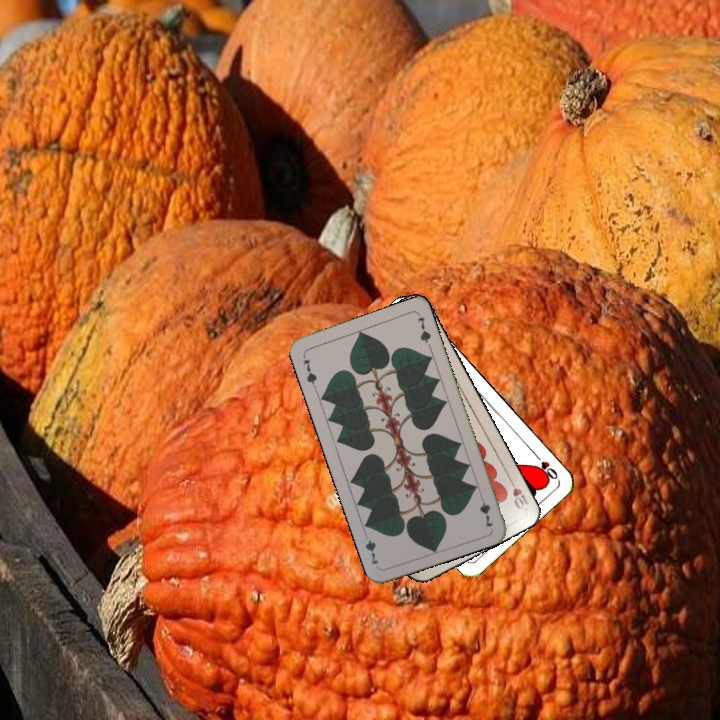G7: (475, 490, 496, 530), (299, 351, 319, 391)
H10: (505, 473, 532, 513)
HO: (530, 449, 560, 483)
